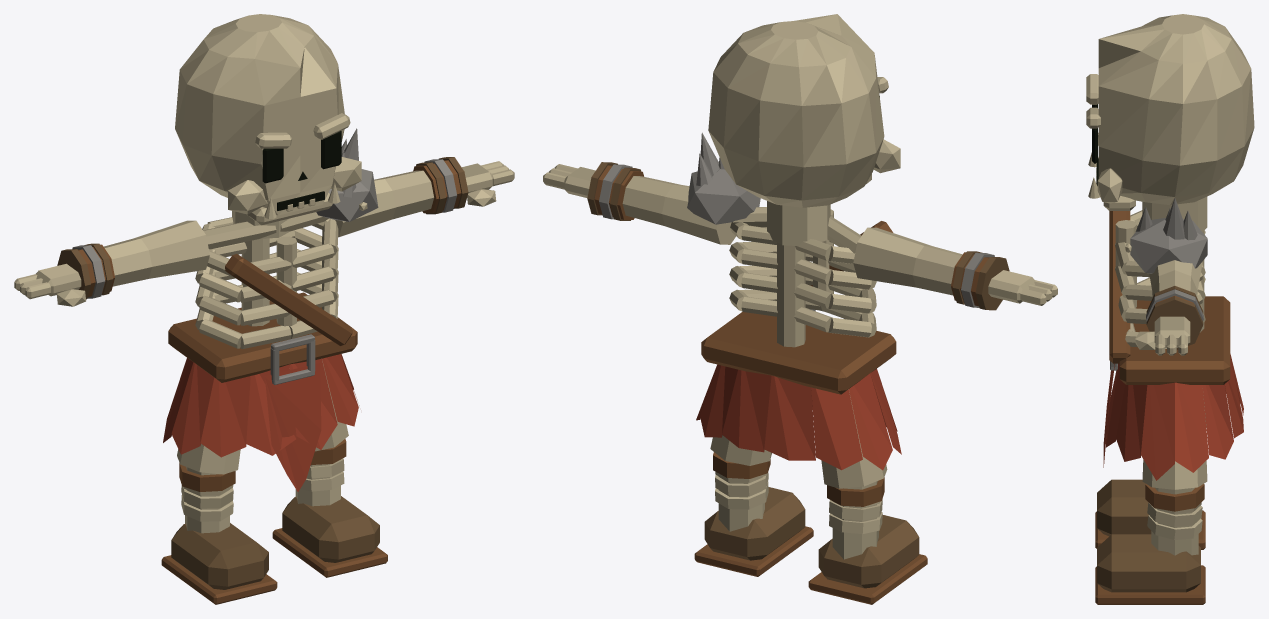
The model's file is skeleton.glb.
3 renders of one model, left to right at view 1: azimuth 30°, elevation 25°; view 2: azimuth 150°, elevation 25°; view 3: azimuth 270°, elevation 25°, orthographic. The views are drawn at different scales.
Visible parts, largest first — view 1: Chest strap, Lower leg, Lower leg.001, Forearm, Forearm.001, Upper arm, Upper arm.001, Green thigh; view 2: Chest strap, Lower leg, Lower leg.001, Forearm, Forearm.001, Upper arm, Upper arm.001, Green thigh, Green thigh.001; view 3: Chest strap, Lower leg.001, Forearm.001, Lower leg, Green thigh.001, Upper arm.001.
Part boxes in pixels (x1,y1,x2,y2): Chest strap: (163, 14, 378, 491); Lower leg: (161, 463, 277, 604); Lower leg.001: (272, 439, 387, 577); Forearm: (14, 238, 151, 306); Forearm.001: (378, 157, 514, 219); Upper arm: (133, 220, 209, 278); Upper arm.001: (335, 179, 395, 237); Green thigh: (177, 444, 240, 474); Chest strap: (687, 14, 901, 470); Lower leg: (808, 477, 927, 604); Lower leg.001: (694, 452, 813, 576); Forearm: (912, 246, 1057, 310); Forearm.001: (543, 162, 680, 225); Upper arm: (853, 227, 931, 287); Upper arm.001: (662, 184, 735, 244); Green thigh: (821, 389, 887, 488); Green thigh.001: (710, 435, 771, 465); Chest strap: (1086, 14, 1254, 480); Lower leg.001: (1095, 484, 1205, 604); Forearm.001: (1135, 270, 1203, 355); Lower leg: (1095, 479, 1205, 549); Green thigh.001: (1142, 395, 1207, 489); Upper arm.001: (1149, 260, 1202, 289).
Bounding box in the file's own units: 1.76 × 1.83 × 0.5175.
